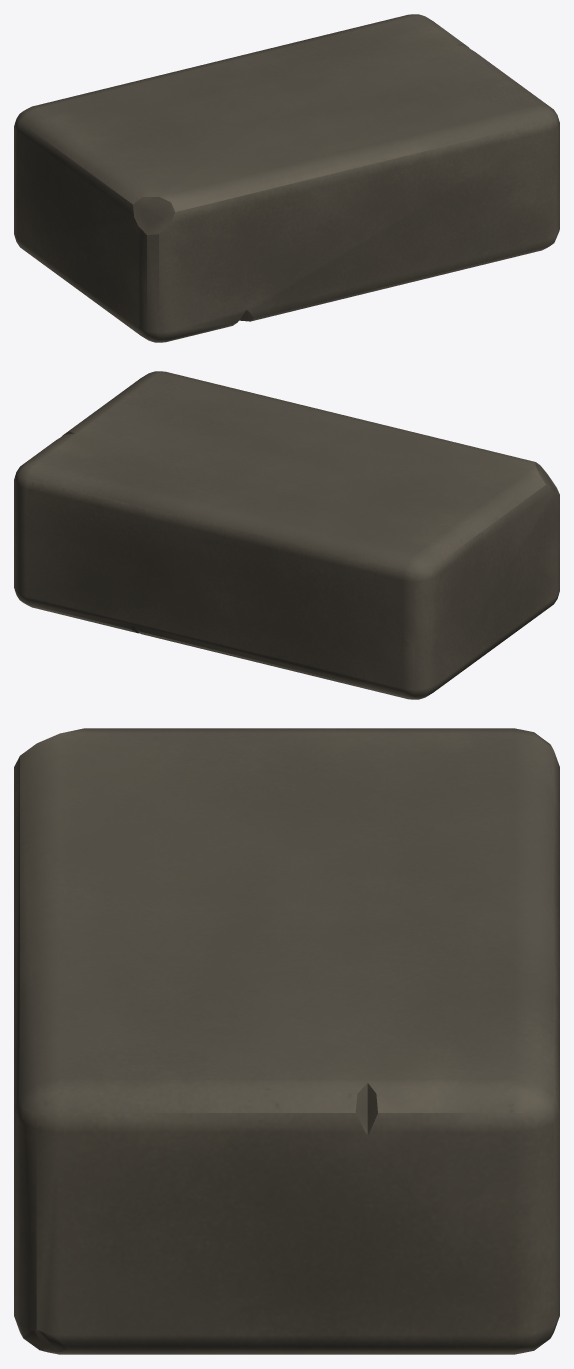
File: Brick.fbx
3 views of the same model, one above another, from view 1: azimuth 30°, elevation 25°; view 2: azimuth 150°, elevation 25°; view 3: azimuth 270°, elevation 25° (orthographic). The views are drawn at different scales.
Visible parts, largest first — view 1: Brick; view 2: Brick; view 3: Brick.
Boxes of the visible parts, left/top/right/bottom form: Brick: left=14, top=14, right=559, bottom=342; Brick: left=14, top=371, right=559, bottom=699; Brick: left=14, top=728, right=559, bottom=1354.
Size of the model in its own units: 5 by 1.64 by 3.
